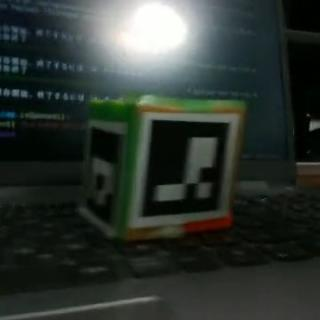armor: (136, 110, 234, 226), (84, 119, 128, 231)
robot: (82, 96, 245, 238)
